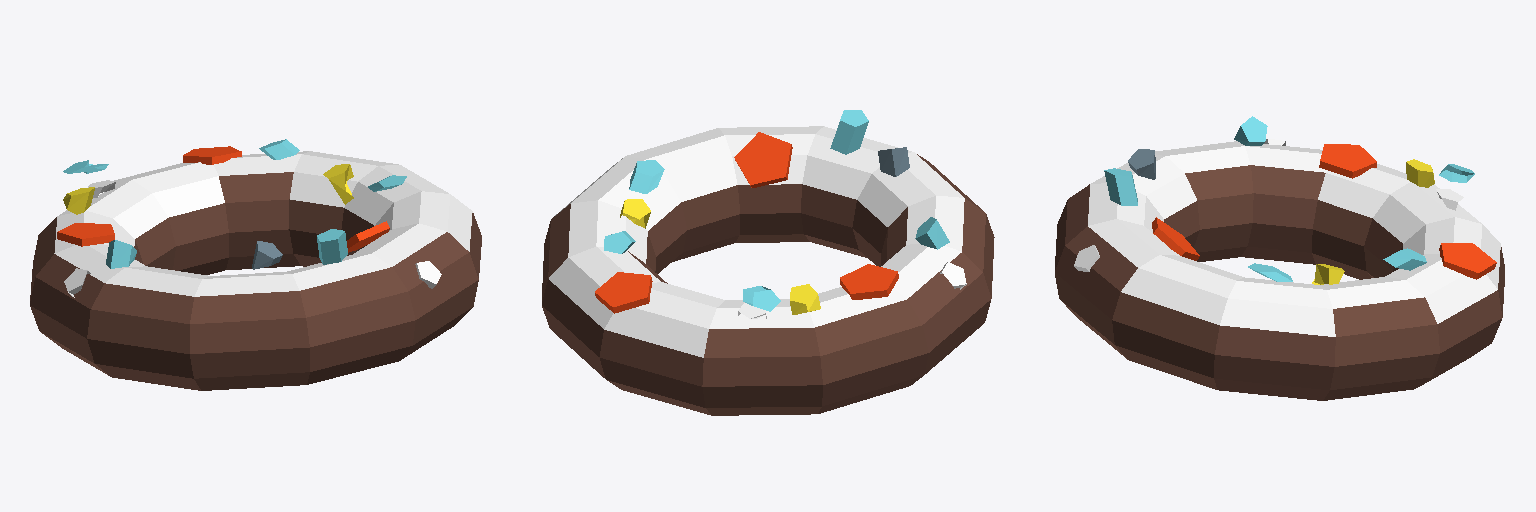
3 views of the same model, side by side, from view 1: azimuth 30°, elevation 25°; view 2: azimuth 150°, elevation 25°; view 3: azimuth 270°, elevation 25° (orthographic).
Parts seen in each view (by area): view 1: group[number redacted], group[number redacted], group[number redacted], group[number redacted], group[number redacted], group[number redacted], group[number redacted], group[number redacted], group[number redacted]; view 2: group[number redacted], group[number redacted], group[number redacted], group[number redacted], group[number redacted], group[number redacted], group[number redacted], group[number redacted], group[number redacted], group[number redacted], group[number redacted]; view 3: group[number redacted], group[number redacted], group[number redacted], group[number redacted], group[number redacted], group[number redacted], group[number redacted], group[number redacted], group[number redacted].
Part boxes in pixels (x1,y1,x2,y2): group[number redacted]: (30,151,481,390); group[number redacted]: (57,223,114,246); group[number redacted]: (317,229,347,264); group[number redacted]: (183,146,241,164); group[number redacted]: (323,164,353,204); group[number redacted]: (106,240,136,268); group[number redacted]: (252,241,282,269); group[number redacted]: (63,187,94,214); group[number redacted]: (347,221,389,252); group[number redacted]: (542,126,994,415); group[number redacted]: (734,132,792,187); group[number redacted]: (595,272,652,313); group[number redacted]: (840,264,898,299); group[number redacted]: (830,110,868,154); group[number redacted]: (629,160,664,193); group[number redacted]: (790,284,820,314); group[number redacted]: (878,147,909,176); group[number redacted]: (915,217,949,249); group[number redacted]: (743,286,780,311); group[number redacted]: (620,199,650,228); group[number redacted]: (1055,141,1504,400); group[number redacted]: (1319,144,1376,178); group[number redacted]: (1439,243,1496,279); group[number redacted]: (1104,168,1137,205); group[number redacted]: (1152,217,1199,260); group[number redacted]: (1234,116,1267,145); group[number redacted]: (1128,149,1155,179); group[number redacted]: (1406,159,1434,187); group[number redacted]: (1383,248,1426,270).
Size of the model in its own units: 0.2916 by 0.1192 by 0.2901.